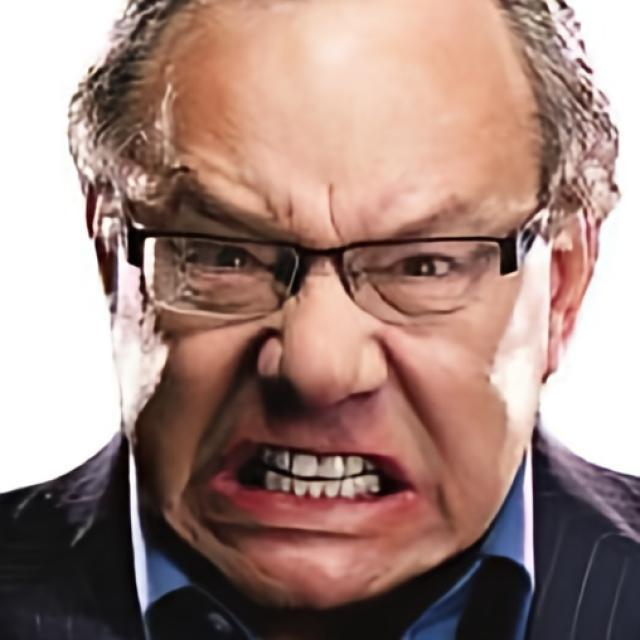anger: (135, 0, 547, 609)
